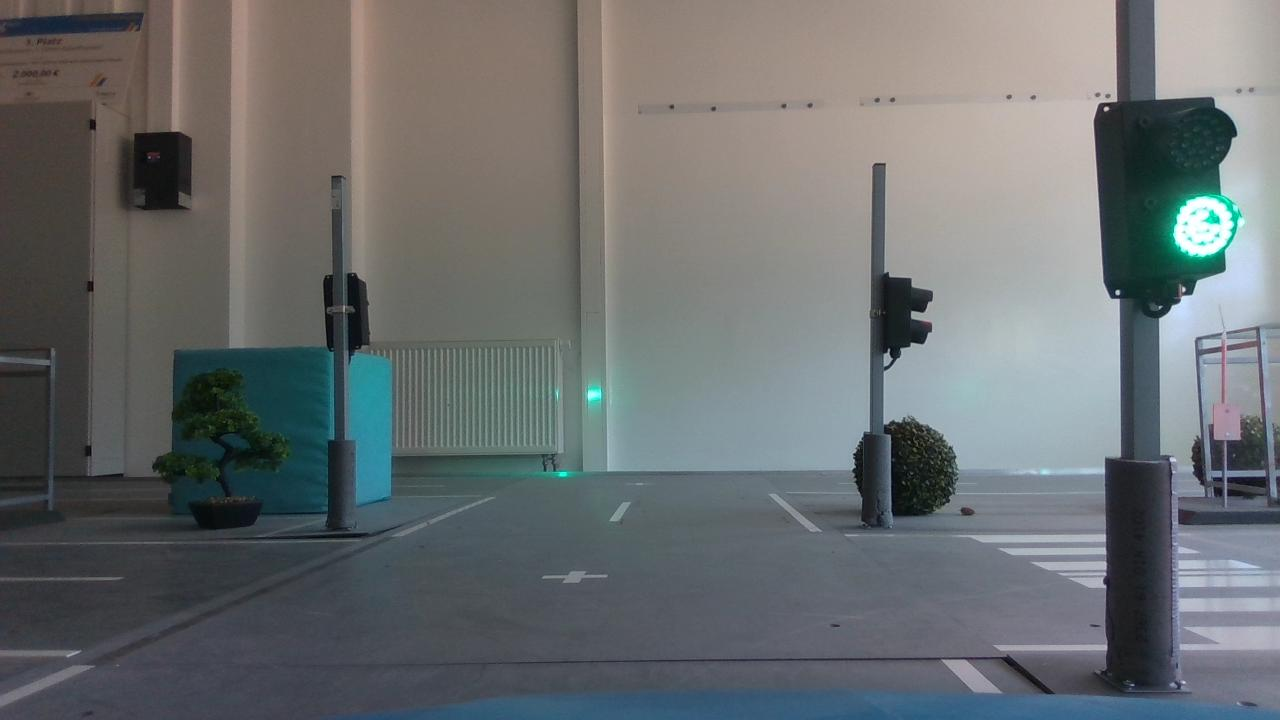traffic_light_green: (1082, 95, 1249, 305)
